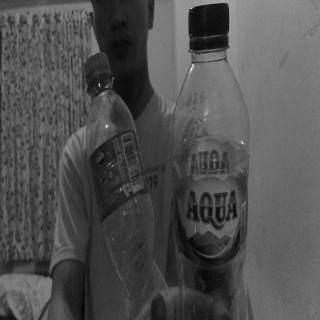plastic_bottles: (170, 0, 252, 320), (82, 46, 175, 320)
